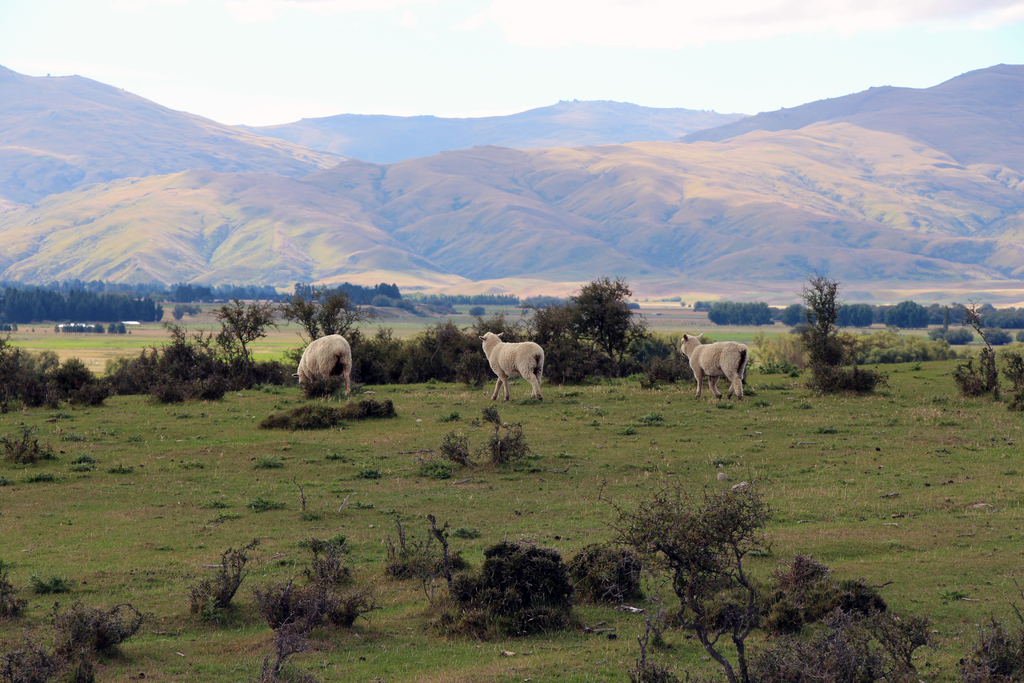Animal: (472, 330, 546, 399), (679, 330, 749, 398), (288, 330, 351, 400)
